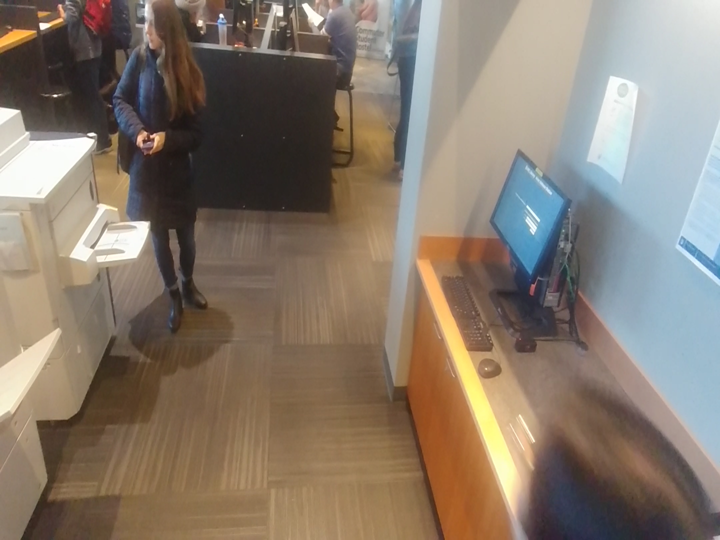face: (129, 0, 191, 62)
human: (106, 0, 223, 339), (53, 0, 117, 156), (315, 0, 363, 96)
